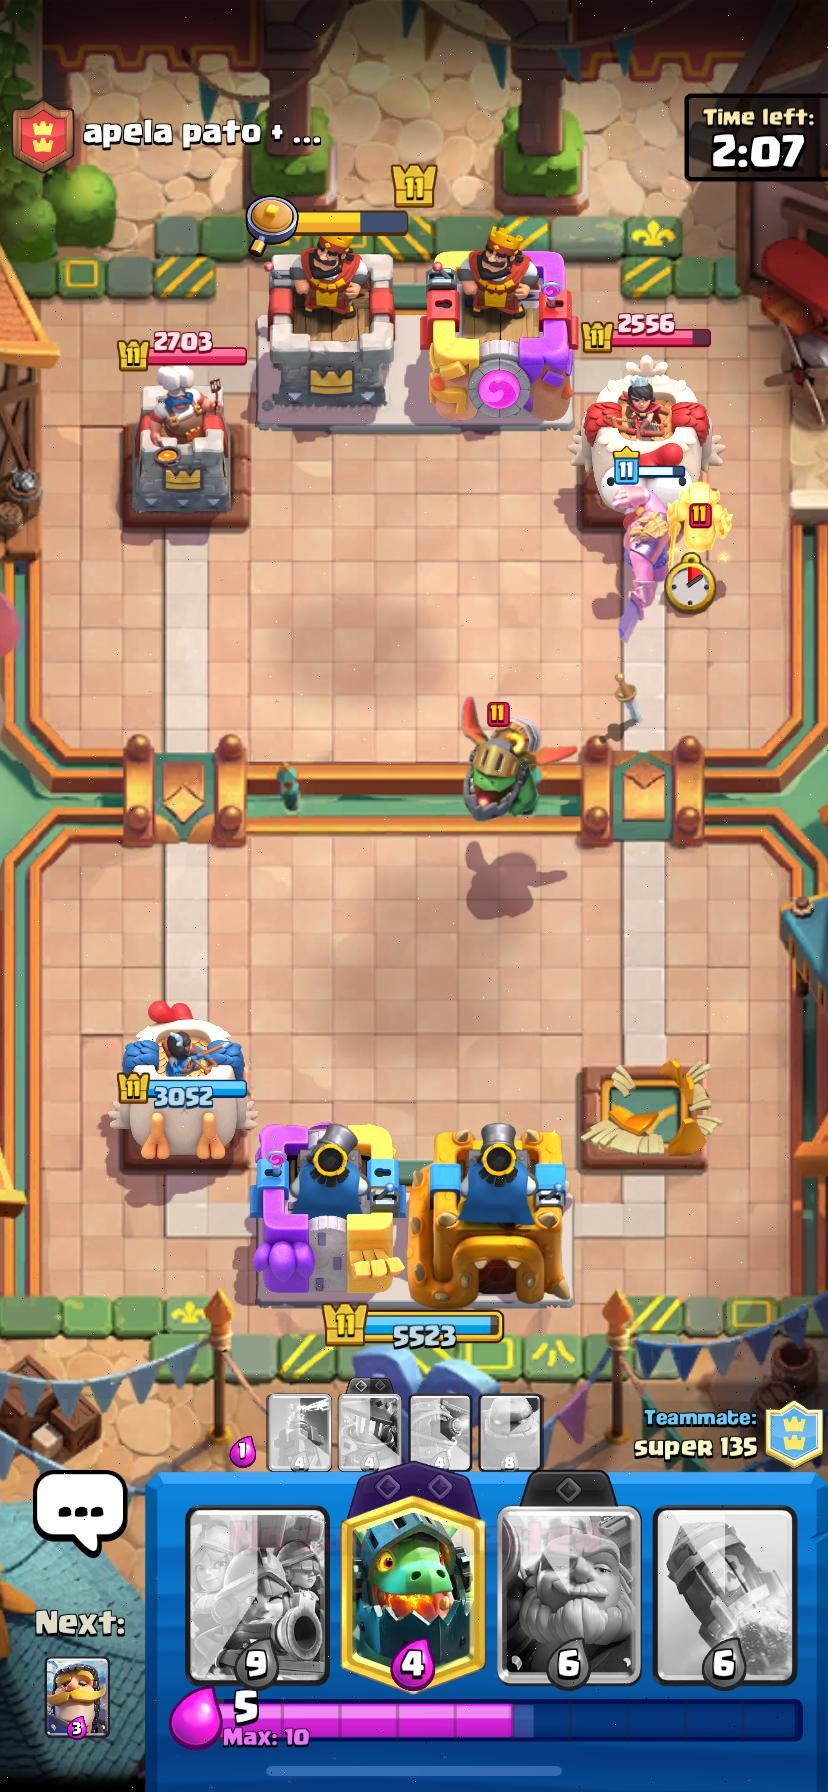EInfernoDrag: (462, 698, 542, 821)
EKingTower: (428, 232, 576, 423), (257, 241, 395, 424)
EnemyPanTower: (124, 367, 231, 520)
EnemyPrincessTower: (582, 357, 719, 474)
ORoyalKnight: (624, 491, 668, 616)
OwnKingTower: (407, 1123, 572, 1307), (252, 1123, 403, 1301)
OwnPrincessTower: (111, 1002, 255, 1160)
TowerDown: (580, 1059, 720, 1169)
